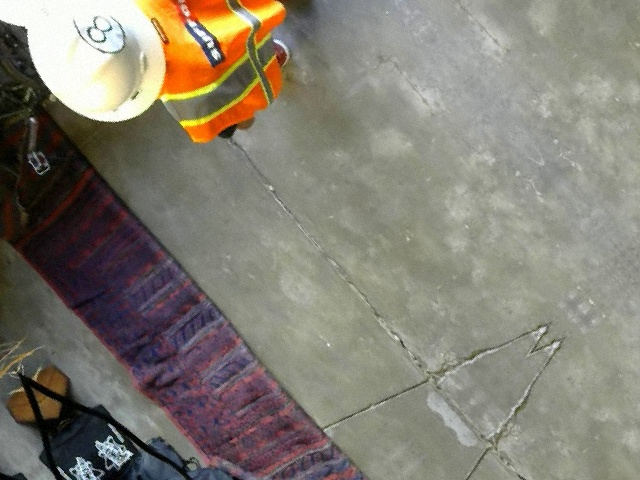eight: (59, 0, 134, 65)
